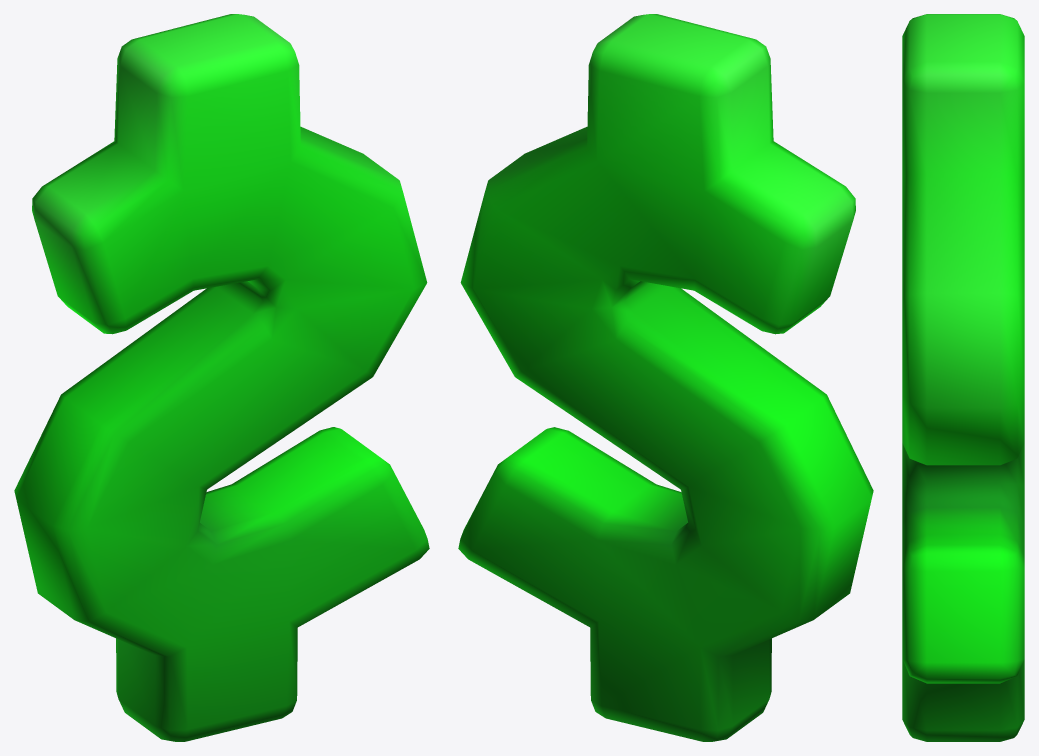
File: SM_dolarsign.fbx
3 renders of one model, left to right at view 1: azimuth 30°, elevation 25°; view 2: azimuth 150°, elevation 25°; view 3: azimuth 270°, elevation 25°, orthographic.
Visible parts, largest first — view 1: SM_dolarsign; view 2: SM_dolarsign; view 3: SM_dolarsign.
Part boxes in pixels (left/top/right/bottom): SM_dolarsign: left=14, top=14, right=429, bottom=741; SM_dolarsign: left=458, top=14, right=873, bottom=741; SM_dolarsign: left=902, top=14, right=1024, bottom=741.
Bounding box in the file's own units: 18.87 × 32.69 × 5.32.
